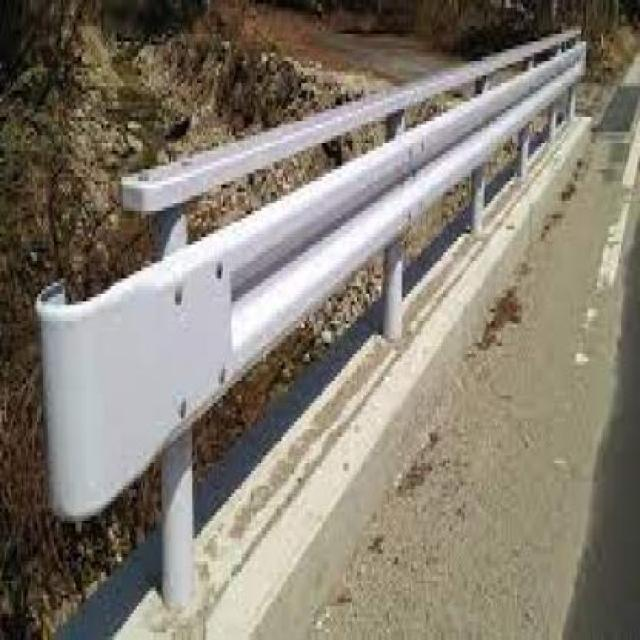Guard rail: (34, 22, 589, 633)
